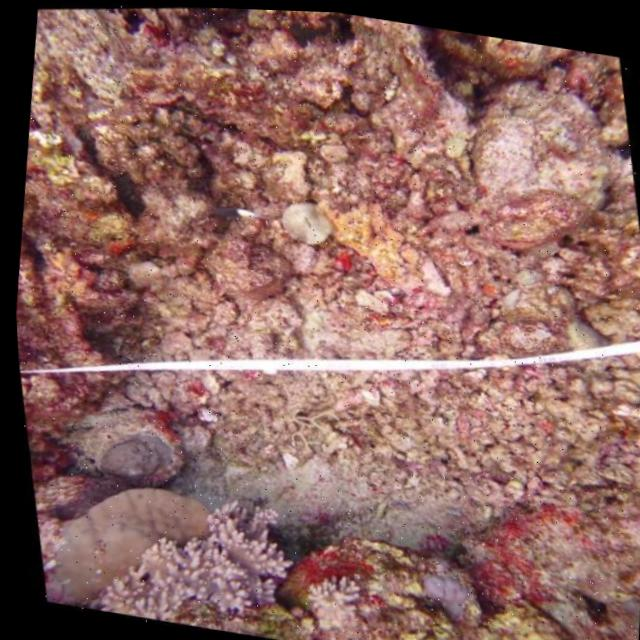Bleached Coral: (113, 487, 297, 640), (295, 562, 360, 632)
Healthy Coral: (33, 471, 209, 623)
